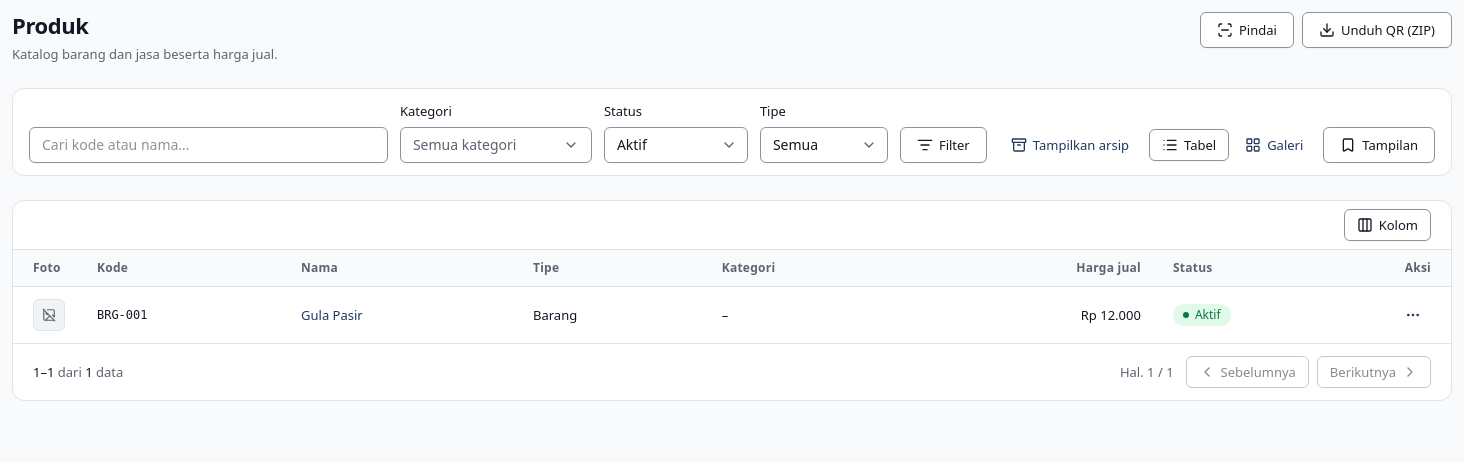
Scenario: daftar produk — filter bawaan Aktif + arsip › satu klik 'Tampilkan arsip' membuka arsip + kolom 'Diarsipkan pada'; klik lagi kembali ke aktif
Check: the link "Gula Pasir" is shown, box [301,306,363,324]
Click the button "Tampilkan arsip": [1070, 144] box [999,128,1141,160]
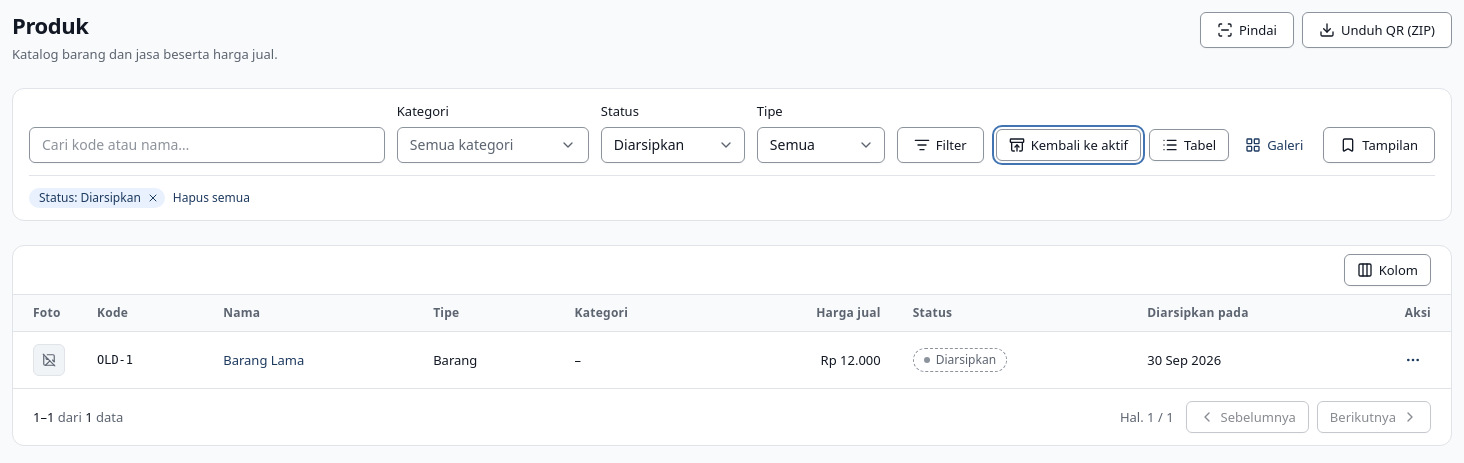
Check: the link "Barang Lama" is shown, box [223,350,304,368]
Check: the column heading "Diarsipkan pada" is shown, box [1131,294,1379,331]
Check: the text "30 Sep 2026" is shown, box [1131,332,1379,388]
Click the button "Kembali ke aktif": [1068, 144] box [996,128,1141,160]
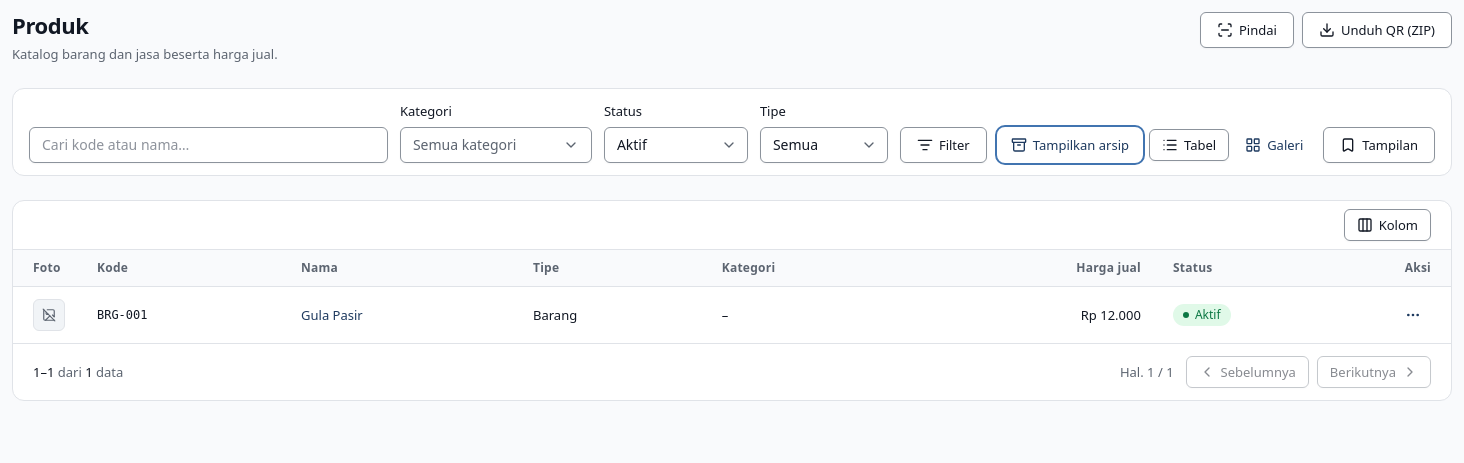
Check: the link "Gula Pasir" is shown, box [301,306,363,324]
